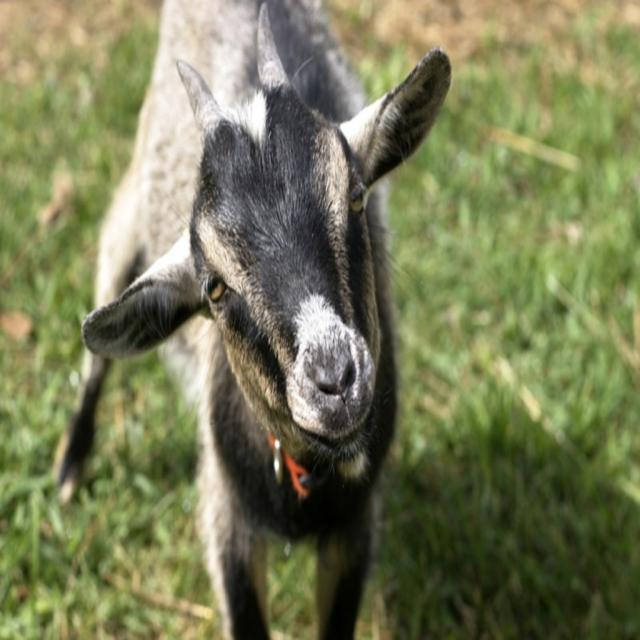Goat: (49, 0, 450, 639)
